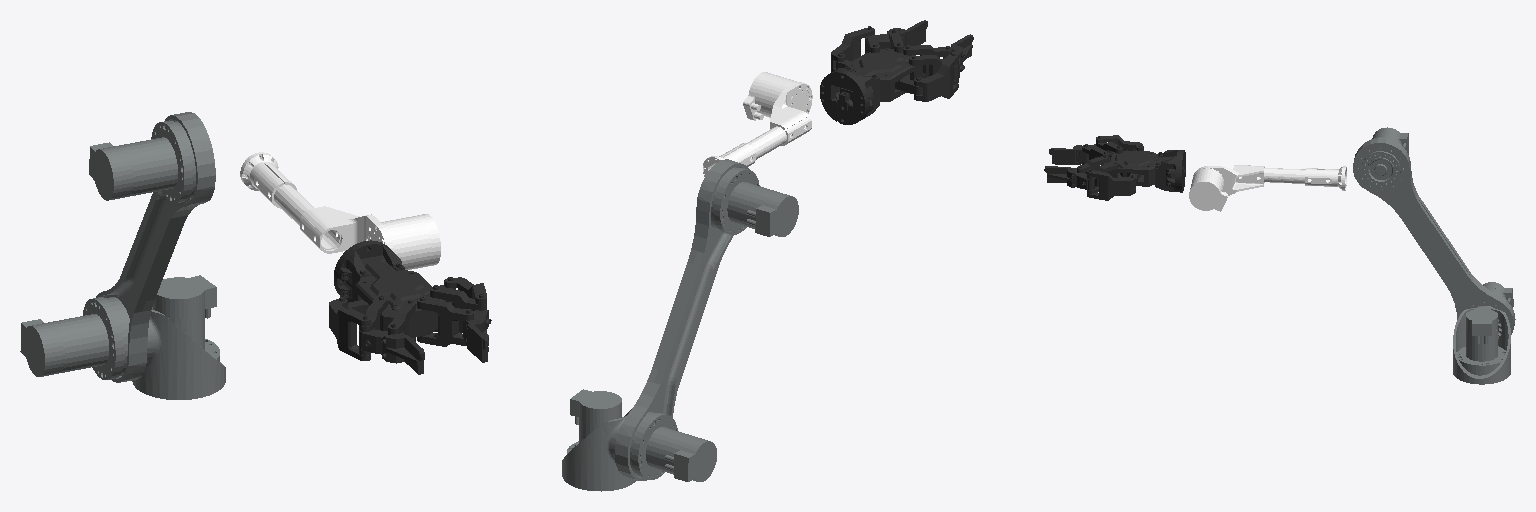
The robot description file, URDF, robot "asy_robotic_arm_2026":
<?xml version="1.0" encoding="utf-8"?>
<!-- This URDF was automatically created by SolidWorks to URDF Exporter! Originally created by Stephen Brawner (brawner@gmail.com) 
     Commit Version: 1.6.0-4-g7f85cfe  Build Version: 1.6.7995.38578
     For more information, please see http://wiki.ros.org/sw_urdf_exporter -->
<robot
  name="asy_robotic_arm_2026">
  <link
    name="base_link">
    <inertial>
      <origin
        xyz="-4.9468E-17 0.0044613 -3.4723E-18"
        rpy="0 0 0" />
      <mass
        value="0.21974" />
      <inertia
        ixx="0.00022426"
        ixy="-1.0831E-20"
        ixz="1.6977E-20"
        iyy="0.00044509"
        iyz="5.0538E-22"
        izz="0.00022426" />
    </inertial>
    <visual>
      <origin
        xyz="0 0 0"
        rpy="0 0 0" />
      <geometry>
        <mesh
          filename="package://asy_robotic_arm_2026/meshes/base_link.STL" />
      </geometry>
      <material
        name="">
        <color
          rgba="0.89804 0.91765 0.92941 1" />
      </material>
    </visual>
    <collision>
      <origin
        xyz="0 0 0"
        rpy="0 0 0" />
      <geometry>
        <mesh
          filename="package://asy_robotic_arm_2026/meshes/base_link.STL" />
      </geometry>
    </collision>
  </link>
  <joint
    name="joint1"
    type="fixed">
    <origin
      xyz="0 0 0.0643"
      rpy="3.1416 0 -1.5708" />
    <parent link="base_link" />
    <child link="Link1" />
    <axis
      xyz="0 0 0" />
  </joint>
  <link
    name="Link1">
    <inertial>
      <origin
        xyz="-9.6291E-06 0.00088403 0.0090814"
        rpy="0 0 0" />
      <mass
        value="2.0415" />
      <inertia
        ixx="0.0018245"
        ixy="-2.471E-07"
        ixz="-5.2801E-07"
        iyy="0.0018291"
        iyz="0.00010038"
        izz="0.0016585" />
    </inertial>
    <visual>
      <origin
        xyz="0 0 0"
        rpy="0 0 0" />
      <geometry>
        <mesh
          filename="package://asy_robotic_arm_2026/meshes/Link1.STL" />
      </geometry>
      <material
        name="">
        <color
          rgba="0.52941 0.54902 0.54902 1" />
      </material>
    </visual>
    <collision>
      <origin
        xyz="0 0 0"
        rpy="0 0 0" />
      <geometry>
        <mesh
          filename="package://asy_robotic_arm_2026/meshes/Link1.STL" />
      </geometry>
    </collision>
  </link>

  <link
    name="Link2">
    <inertial>
      <origin
        xyz="0.13882 0.079275 -0.045933"
        rpy="0 0 0" />
      <mass
        value="4.2029" />
      <inertia
        ixx="0.00516"
        ixy="-0.0034177"
        ixz="-2.4244E-18"
        iyy="0.0090244"
        iyz="6.3238E-06"
        izz="0.010906" />
    </inertial>
    <visual>
      <origin
        xyz="0 0 0"
        rpy="0 0 0" />
      <geometry>
        <mesh
          filename="package://asy_robotic_arm_2026/meshes/Link2.STL" />
      </geometry>
      <material
        name="">
        <color
          rgba="0.52941 0.54902 0.54902 1" />
      </material>
    </visual>
    <collision>
      <origin
        xyz="0 0 0"
        rpy="0 0 0" />
      <geometry>
        <mesh
          filename="package://asy_robotic_arm_2026/meshes/Link2.STL" />
      </geometry>
    </collision>
  </link>
  <joint
    name="joint2"
    type="continuous">
    <origin
      xyz="-0.00025883 0.04747 -0.0132"
      rpy="1.5708 1.5284 0.0054525" />
    <parent
      link="Link1" />
    <child
      link="Link2" />
    <axis
      xyz="0 0 1" />
  </joint>
  <link
    name="Link3">
    <inertial>
      <origin
        xyz="0.021416 9.2756E-05 -0.035252"
        rpy="0 0 0" />
      <mass
        value="1.1761" />
      <inertia
        ixx="0.00056704"
        ixy="-2.3156E-07"
        ixz="4.1869E-05"
        iyy="0.00053345"
        iyz="2.4901E-06"
        izz="0.00055842" />
    </inertial>
    <visual>
      <origin
        xyz="0 0 0"
        rpy="0 0 0" />
      <geometry>
        <mesh
          filename="package://asy_robotic_arm_2026/meshes/Link3.STL" />
      </geometry>
      <material
        name="">
        <color
          rgba="0 0 1 1" />
      </material>
    </visual>
    <collision>
      <origin
        xyz="0 0 0"
        rpy="0 0 0" />
      <geometry>
        <mesh
          filename="package://asy_robotic_arm_2026/meshes/Link3.STL" />
      </geometry>
    </collision>
  </link>
  <joint
    name="joint3"
    type="continuous">
    <origin
      xyz="0.27765 0.1603 0"
      rpy="-3.1416 0 1.5284" />
    <parent
      link="Link2" />
    <child
      link="Link3" />
    <axis
      xyz="0 0 1" />
  </joint>
  <link
    name="Link4">
    <inertial>
      <origin
        xyz="0.057468 -0.00030635 0.20823"
        rpy="0 0 0" />
      <mass
        value="1.1715" />
      <inertia
        ixx="0.00052055"
        ixy="-9.0675E-07"
        ixz="-3.0947E-05"
        iyy="0.000509"
        iyz="-7.6065E-06"
        izz="0.00038109" />
    </inertial>
    <visual>
      <origin
        xyz="0 0 0"
        rpy="0 0 0" />
      <geometry>
        <mesh
          filename="package://asy_robotic_arm_2026/meshes/Link4.STL" />
      </geometry>
      <material
        name="">
        <color
          rgba="1 1 1 1" />
      </material>
    </visual>
    <collision>
      <origin
        xyz="0 0 0"
        rpy="0 0 0" />
      <geometry>
        <mesh
          filename="package://asy_robotic_arm_2026/meshes/Link4.STL" />
      </geometry>
    </collision>
  </link>
  <joint
    name="joint4"
    type="continuous">
    <origin
      xyz="0.053502 0 -0.035471"
      rpy="3.1416 1.5708 3.1416" />
    <parent
      link="Link3" />
    <child
      link="Link4" />
    <axis
      xyz="0 0 1" />
  </joint>
  <link
    name="Link5">
    <inertial>
      <origin
        xyz="-0.00026497 0.00022114 0.03105"
        rpy="0 0 0" />
      <mass
        value="1.0742" />
      <inertia
        ixx="0.00038618"
        ixy="8.1369E-07"
        ixz="4.3135E-06"
        iyy="0.0003666"
        iyz="1.2385E-05"
        izz="0.00040251" />
    </inertial>
    <visual>
      <origin
        xyz="0 0 0"
        rpy="0 0 0" />
      <geometry>
        <mesh
          filename="package://asy_robotic_arm_2026/meshes/Link5.STL" />
      </geometry>
      <material
        name="">
        <color
          rgba="0.52941 0.54902 0.54902 1" />
      </material>
    </visual>
    <collision>
      <origin
        xyz="0 0 0"
        rpy="0 0 0" />
      <geometry>
        <mesh
          filename="package://asy_robotic_arm_2026/meshes/Link5.STL" />
      </geometry>
    </collision>
  </link>
  <joint
    name="joint5"
    type="revolute">
    <origin
      xyz="0 0 0.2615"
      rpy="-3.1416 0 -1.9635" />
    <parent
      link="Link4" />
    <child
      link="Link5" />
    <axis
      xyz="0 0 0" />
    <limit
      lower="0"
      upper="0"
      effort="0"
      velocity="0" />
  </joint>
  <link
    name="End_effector">
    <inertial>
      <origin
        xyz="-0.042602 0.00018998 0.00011451"
        rpy="0 0 0" />
      <mass
        value="0.54279" />
      <inertia
        ixx="0.00018116"
        ixy="-5.002E-06"
        ixz="1.6477E-08"
        iyy="0.00040156"
        iyz="3.6648E-08"
        izz="0.00036045" />
    </inertial>
    <visual>
      <origin
        xyz="0 0 0"
        rpy="0 0 0" />
      <geometry>
        <mesh
          filename="package://asy_robotic_arm_2026/meshes/End_effector.STL" />
      </geometry>
      <material
        name="">
        <color
          rgba="0.25098 0.25098 0.25098 1" />
      </material>
    </visual>
    <collision>
      <origin
        xyz="0 0 0"
        rpy="0 0 0" />
      <geometry>
        <mesh
          filename="package://asy_robotic_arm_2026/meshes/End_effector.STL" />
      </geometry>
    </collision>
  </link>
  <joint
    name="joint_end_effector"
    type="fixed">
    <origin
      xyz="0 0 -0.1405"
      rpy="0.53499 1.5708 1.7134" />
    <parent
      link="Link5" />
    <child
      link="End_effector" />
    <axis
      xyz="0 0 0" />
  </joint>
</robot>

--- What the picture shows (computed from the rendered views, not written in the file) ---
Views: 3 orthographic renders of the robot side by side, from view 1: azimuth 30°, elevation 25°; view 2: azimuth 150°, elevation 25°; view 3: azimuth 270°, elevation 25°.
Robot: asy_robotic_arm_2026 — 7 links, 6 joints (1 revolute, 3 continuous, 2 fixed); root link base_link; default pose: every joint at zero.
Visible links, largest first — view 1: Link2, End_effector, Link1, Link4; view 2: Link2, End_effector, Link1, Link4; view 3: Link2, End_effector, Link1, Link4.
Link boxes in pixels (bbox=[...]): Link2: bbox=[20, 112, 215, 382]; End_effector: bbox=[329, 240, 491, 374]; Link1: bbox=[132, 275, 225, 399]; Link4: bbox=[240, 152, 440, 269]; Link2: bbox=[615, 159, 798, 481]; End_effector: bbox=[820, 20, 973, 124]; Link1: bbox=[562, 389, 636, 491]; Link4: bbox=[703, 72, 812, 176]; Link2: bbox=[1353, 127, 1515, 334]; End_effector: bbox=[1044, 135, 1185, 200]; Link1: bbox=[1453, 307, 1510, 384]; Link4: bbox=[1189, 165, 1346, 211].
Size in the robot's own frame: 0.2277 by 0.7712 by 0.3877 metres.
4 mesh visuals loaded from 7 distinct referenced files (4 binary STL); not drawn: 3 (reference not matched to a file when rendering).
